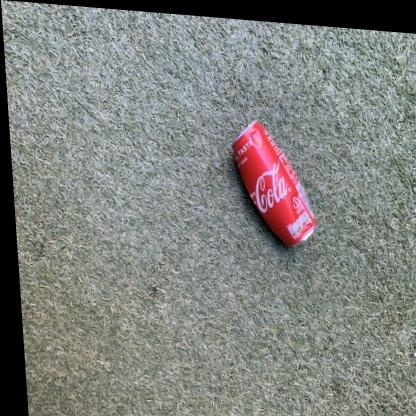trash: (232, 121, 315, 245)
